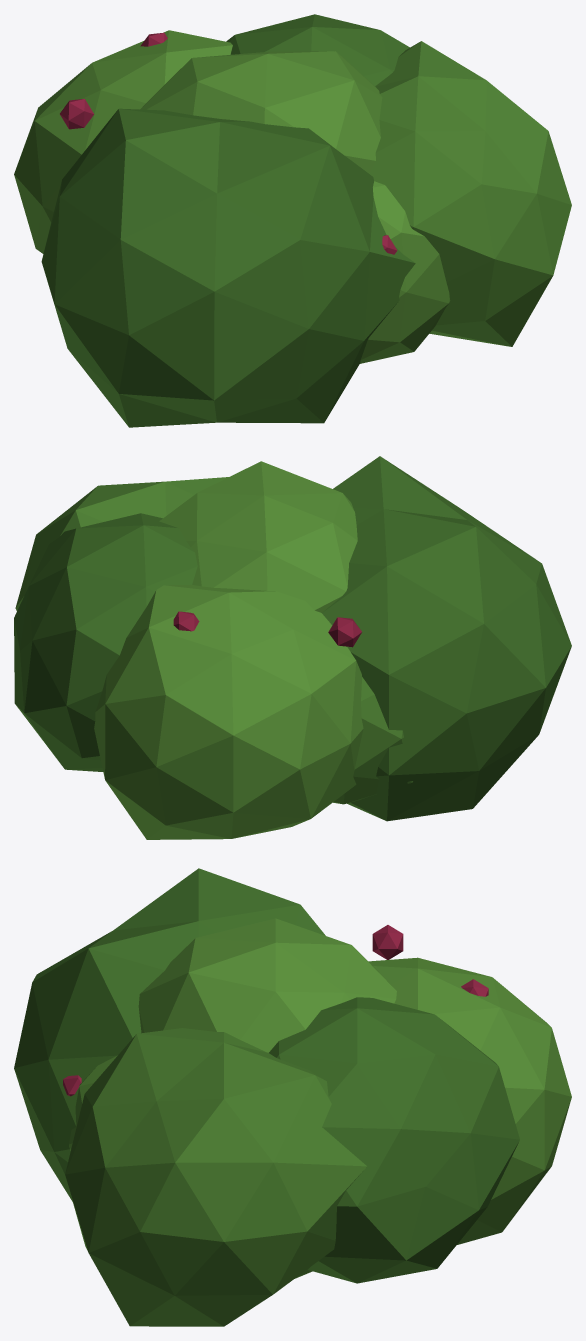
The model's file is tree_bush_1.glb.
3 views of the same model, one above another, from view 1: azimuth 30°, elevation 25°; view 2: azimuth 150°, elevation 25°; view 3: azimuth 270°, elevation 25° (orthographic). The views are drawn at different scales.
Parts seen in each view (by area): view 1: crown; view 2: crown; view 3: crown.
Part boxes in pixels (x1=…): crown: x1=14, y1=14, x2=571, y2=427; crown: x1=14, y1=456, x2=571, y2=839; crown: x1=14, y1=868, x2=571, y2=1326.
Bounding box in the file's own units: 1.01 × 0.58 × 0.9274.
